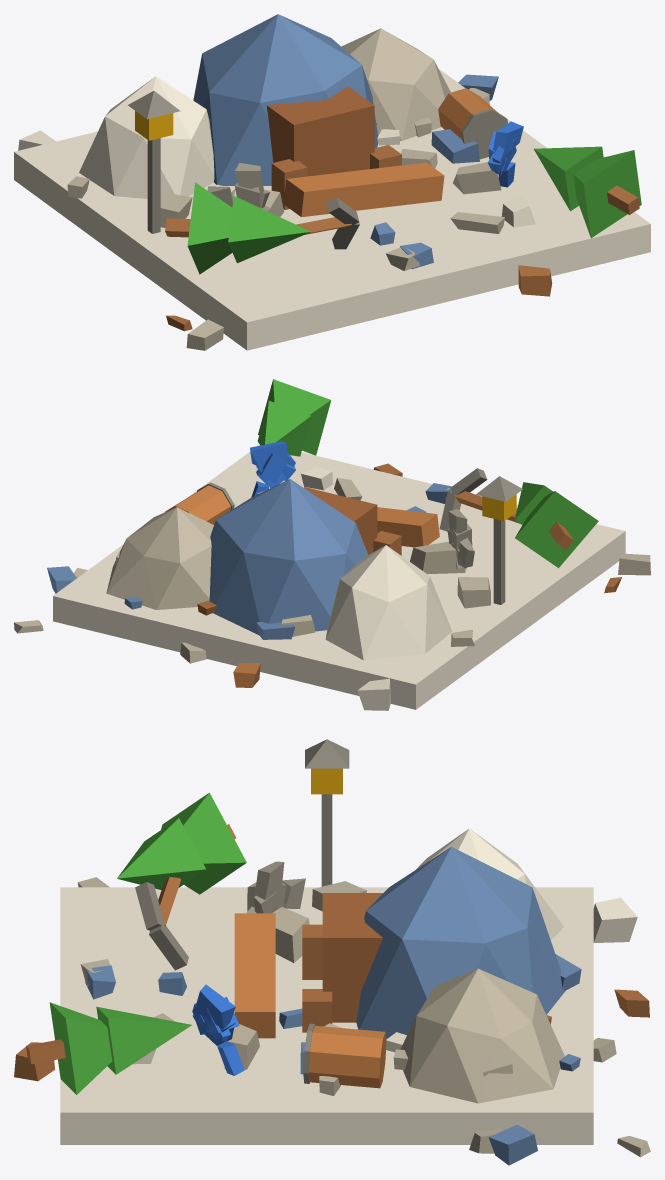
File: mine_t1_v3_dmg2.glb
3 views of the same model, one above another, from view 1: azimuth 30°, elevation 25°; view 2: azimuth 150°, elevation 25°; view 3: azimuth 270°, elevation 25° (orthographic). The views are drawn at different scales.
Visible parts, largest first — view 1: mine_t1_v3_dmg2; view 2: mine_t1_v3_dmg2; view 3: mine_t1_v3_dmg2.
Part boxes in pixels (x1,y1,x2,y2): mine_t1_v3_dmg2: (14, 14, 650, 350); mine_t1_v3_dmg2: (14, 379, 650, 710); mine_t1_v3_dmg2: (14, 739, 650, 1165).
Size of the model in its own units: 0.7312 by 0.24 by 0.7165.
1 material, 1 textured.
